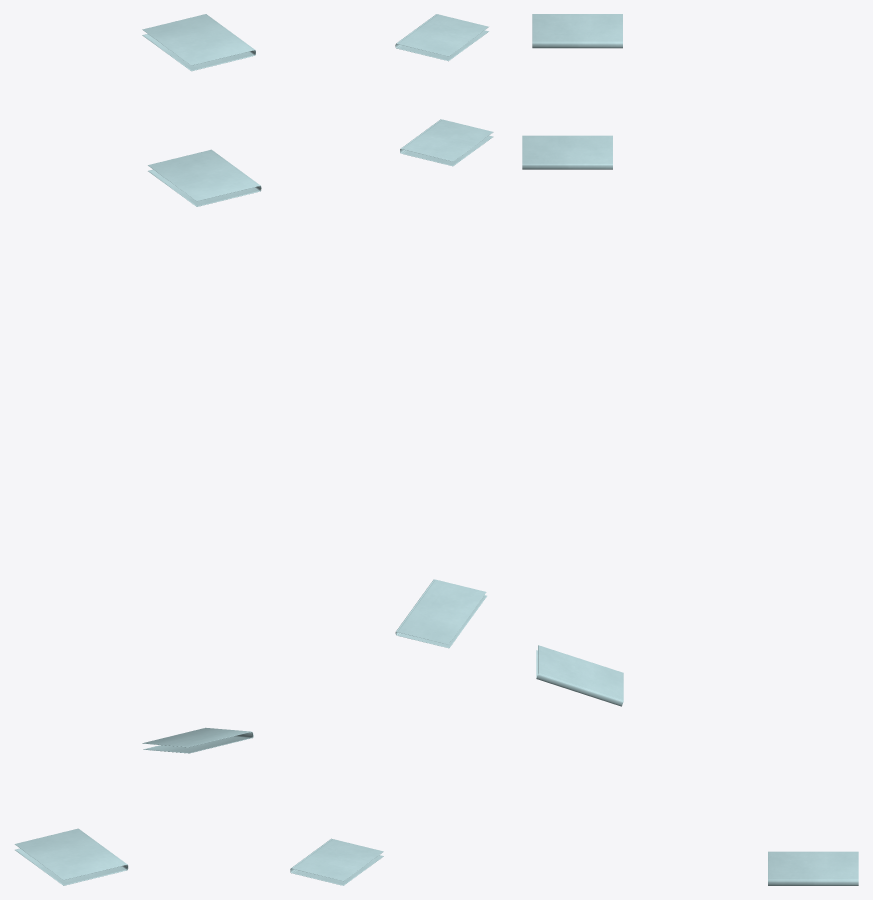
Rendered from bookshelf_6.obj.
3 views of the same model, side by side, from view 1: azimuth 30°, elevation 25°; view 2: azimuth 150°, elevation 25°; view 3: azimuth 270°, elevation 25° (orthographic). The views are drawn at different scales.
Bounding box in the file's own units: 0.2916 × 3.93 × 1.42.
